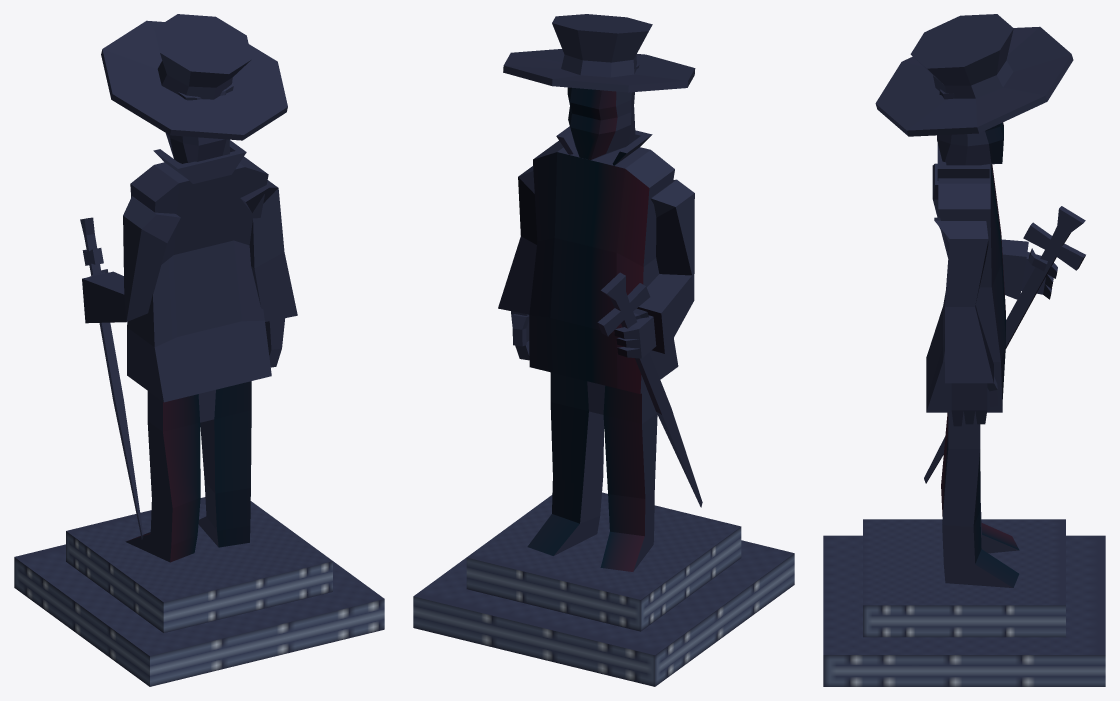
Rendered from EstatuaFundador.fbx.
3 views of the same model, side by side, from view 1: azimuth 30°, elevation 25°; view 2: azimuth 150°, elevation 25°; view 3: azimuth 270°, elevation 25° (orthographic). The views are drawn at different scales.
Visible parts, largest first — view 1: Estatua; view 2: Estatua; view 3: Estatua.
Part boxes in pixels (left/top/right/bottom): Estatua: left=14, top=14, right=384, bottom=686; Estatua: left=413, top=14, right=794, bottom=686; Estatua: left=823, top=14, right=1105, bottom=686.
Size of the model in its own units: 195 by 195 by 458.
